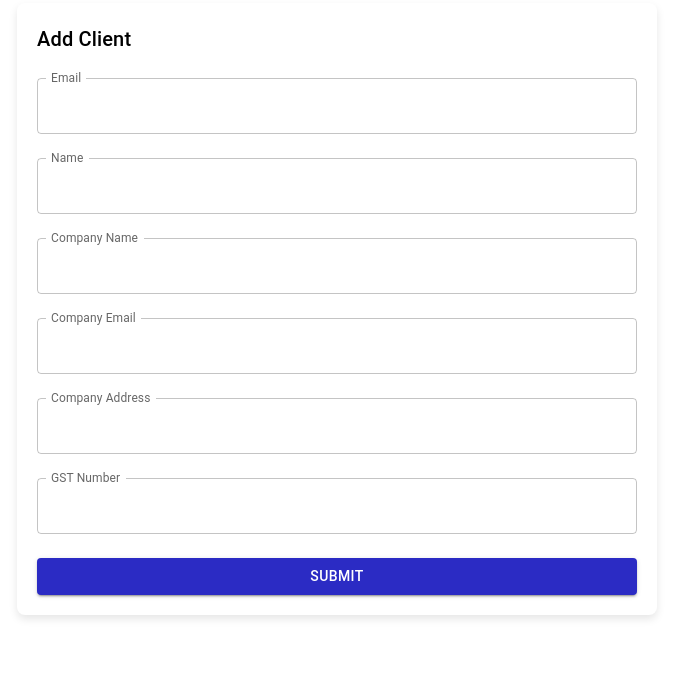
Test: ClientFormPage › shows validation errors when fields are empty
Step 1. Click the button "Submit" → (337, 576), box x1=37 y1=558 x2=637 y2=594
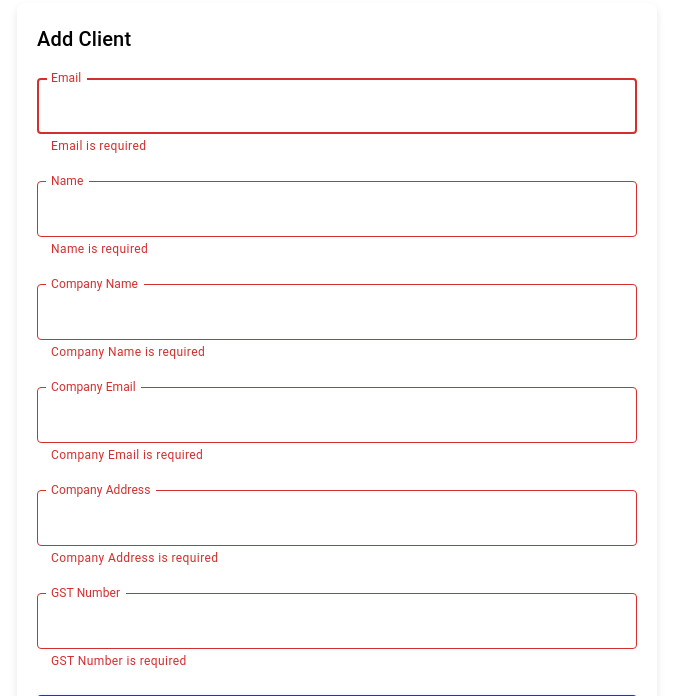
Expected: the text "Email is required" is shown 2 times, x1=51 y1=139 x2=146 y2=153; x1=51 y1=448 x2=203 y2=462
Expected: the text "Name is required" is shown, x1=51 y1=242 x2=148 y2=256
Expected: the text "Company Name is required" is shown, x1=51 y1=345 x2=205 y2=359
